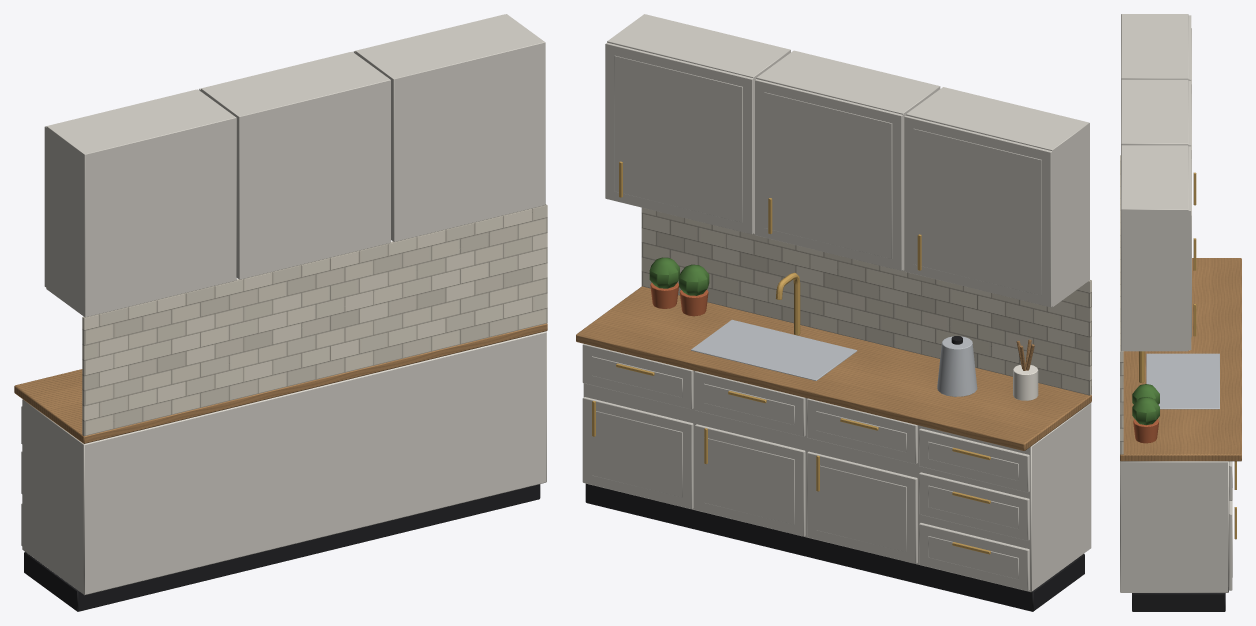
The model's file is counter.glb.
The picture shows the model from 3 angles, left to right: view 1: azimuth 30°, elevation 25°; view 2: azimuth 150°, elevation 25°; view 3: azimuth 270°, elevation 25°; orthographic projection. The views are drawn at different scales.
Parts seen in each view (by area): view 1: counter; view 2: counter; view 3: counter.
Part boxes in pixels (left/top/right/bottom): counter: left=14, top=14, right=547, bottom=611; counter: left=576, top=14, right=1091, bottom=611; counter: left=1120, top=14, right=1241, bottom=611.
Bounding box in the file's own units: 10.72 × 10.2 × 2.8.
Materials: 9 (2 with a texture image).
